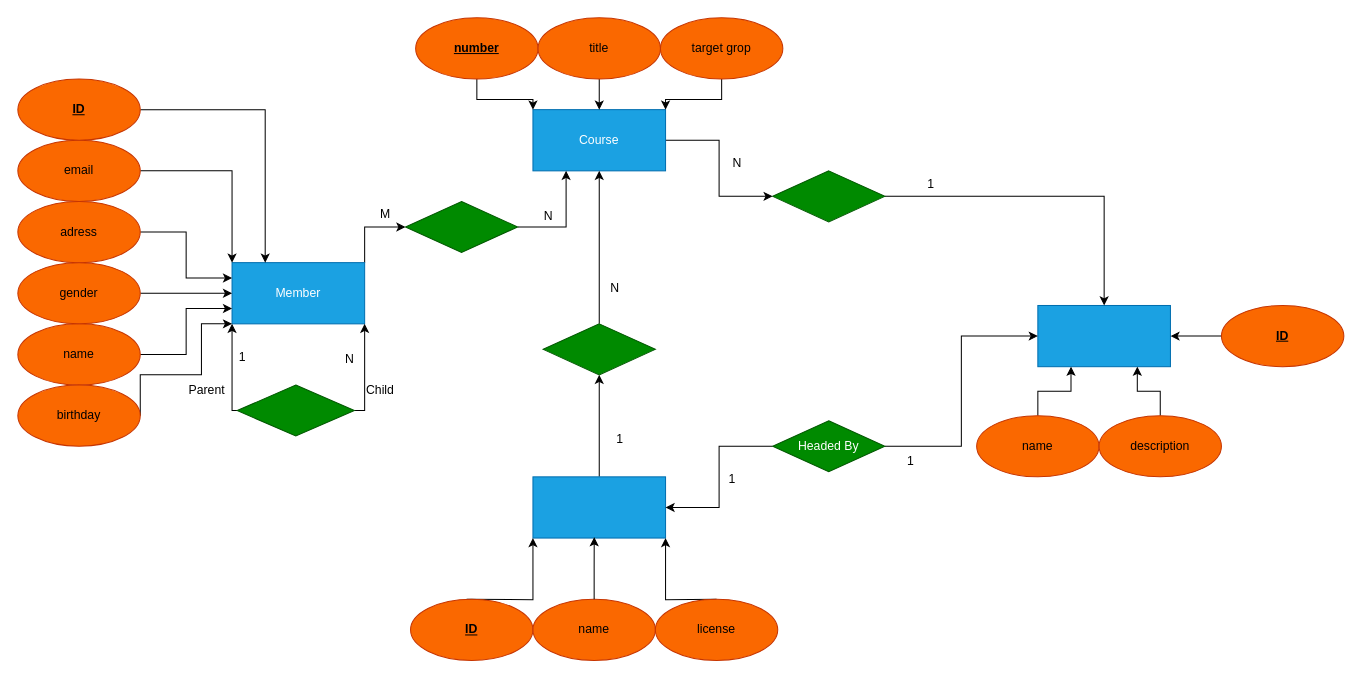
This 1362x678 diagram has some shape labels left out. Here are the shapes that lost their labels. From the top down, the centre of each, then its label:
At pixel 828 196: "Belongs To".
At pixel 461 226: "Endroll".
At pixel 598 349: "Teaches".
At pixel 1103 335: "Area".
At pixel 295 410: "Parents Of".
At pixel 599 507: "Trainer".
